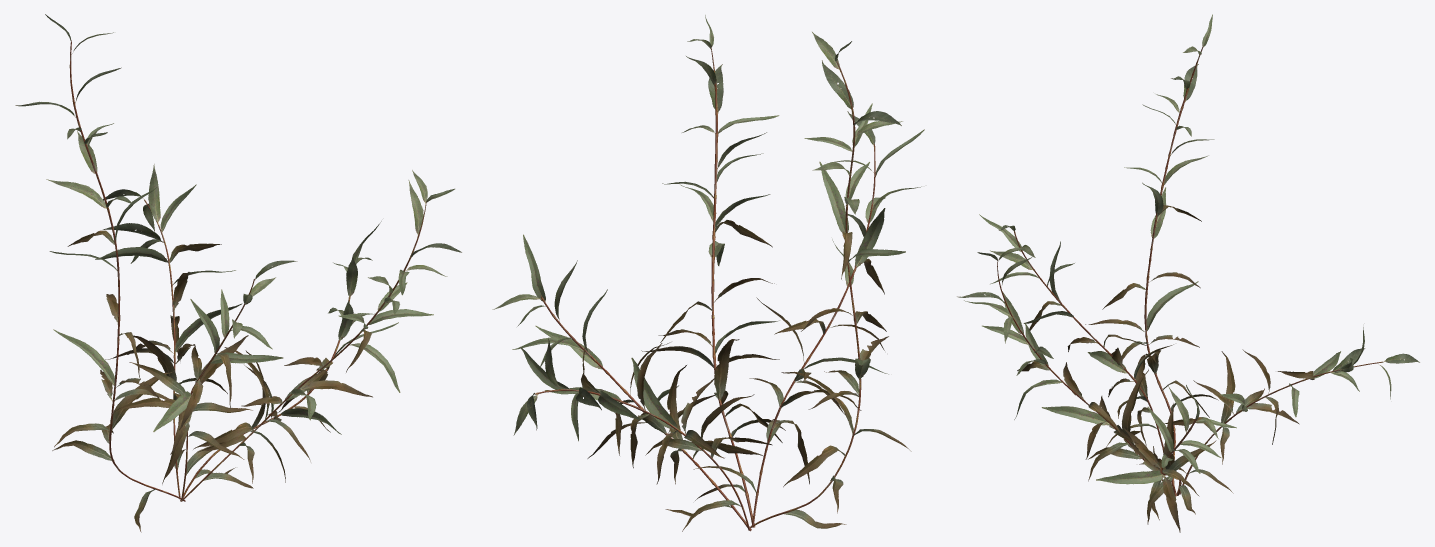
The model's file is UE_shrub_02_a.gltf.
3 views of the same model, side by side, from view 1: azimuth 30°, elevation 25°; view 2: azimuth 150°, elevation 25°; view 3: azimuth 270°, elevation 25° (orthographic). The views are drawn at different scales.
Parts seen in each view (by area): view 1: shrub_02_a; view 2: shrub_02_a; view 3: shrub_02_a.
Boxes of the visible parts, x1,y1,x2,y2 form: shrub_02_a: (15, 14, 461, 532); shrub_02_a: (492, 15, 924, 531); shrub_02_a: (957, 14, 1419, 532).
Bounding box in the file's own units: 1.31 × 1.69 × 1.64.
Materials: 1 (1 with a texture image).
